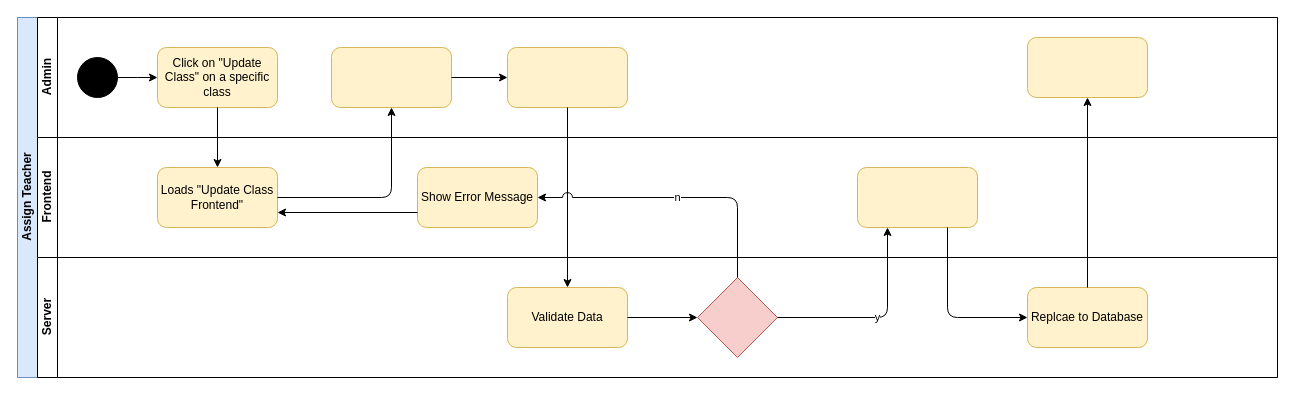
Image size: 1295x395. Some labels were removed from this diagram. The shapes that lost their labels are listed below. From the top down, each one's box as (x1, y1, x2, y2) in pixels, then its label:
(330, 46, 452, 108): Update Data (Userlist-Dropdown)
(506, 46, 628, 108): Click on button "Update Class"
(1026, 36, 1148, 98): Redirect User
(856, 166, 978, 228): Show success Message
(696, 276, 778, 358): Data is valid
